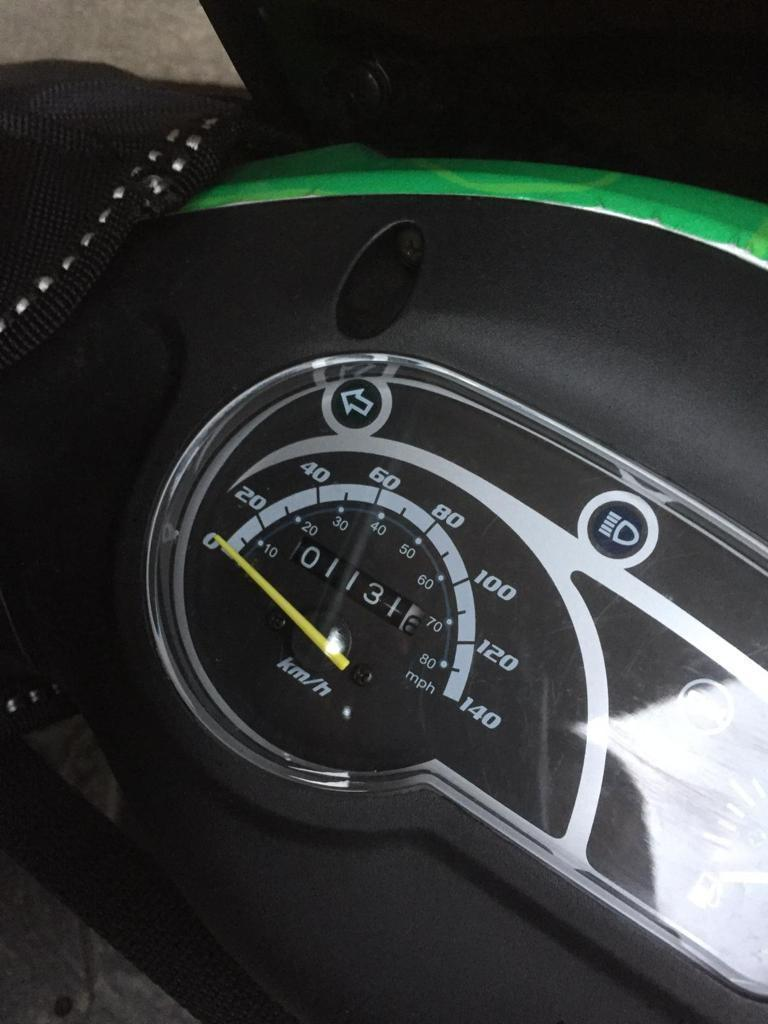0: (298, 544, 321, 571), (406, 547, 415, 559)
1: (385, 590, 404, 621), (344, 565, 361, 591), (323, 553, 338, 580)
5: (399, 542, 409, 554)
6: (403, 610, 421, 635), (416, 573, 426, 586)
odometer: (286, 534, 427, 637)
